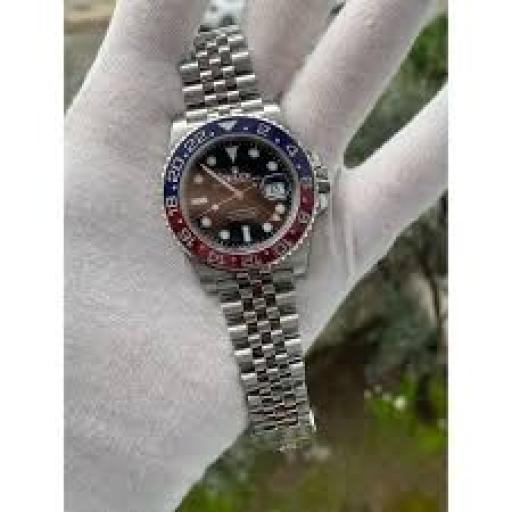KolSaati: (142, 15, 371, 476)
